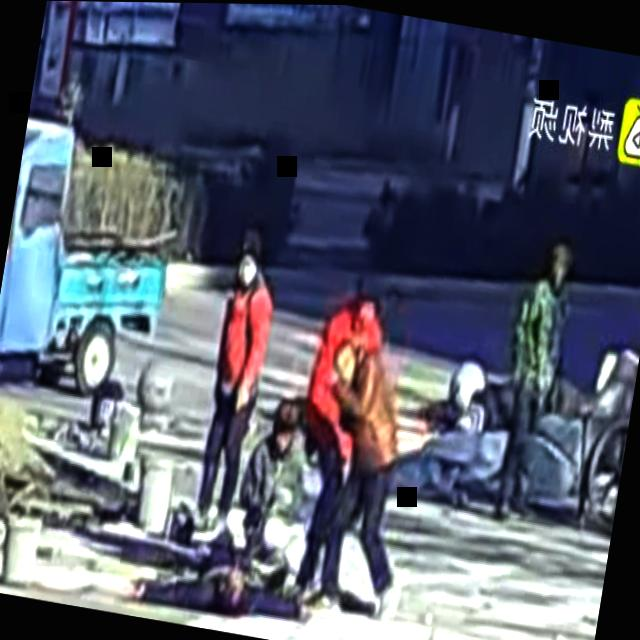Fall-Detected: (122, 489, 334, 640)
